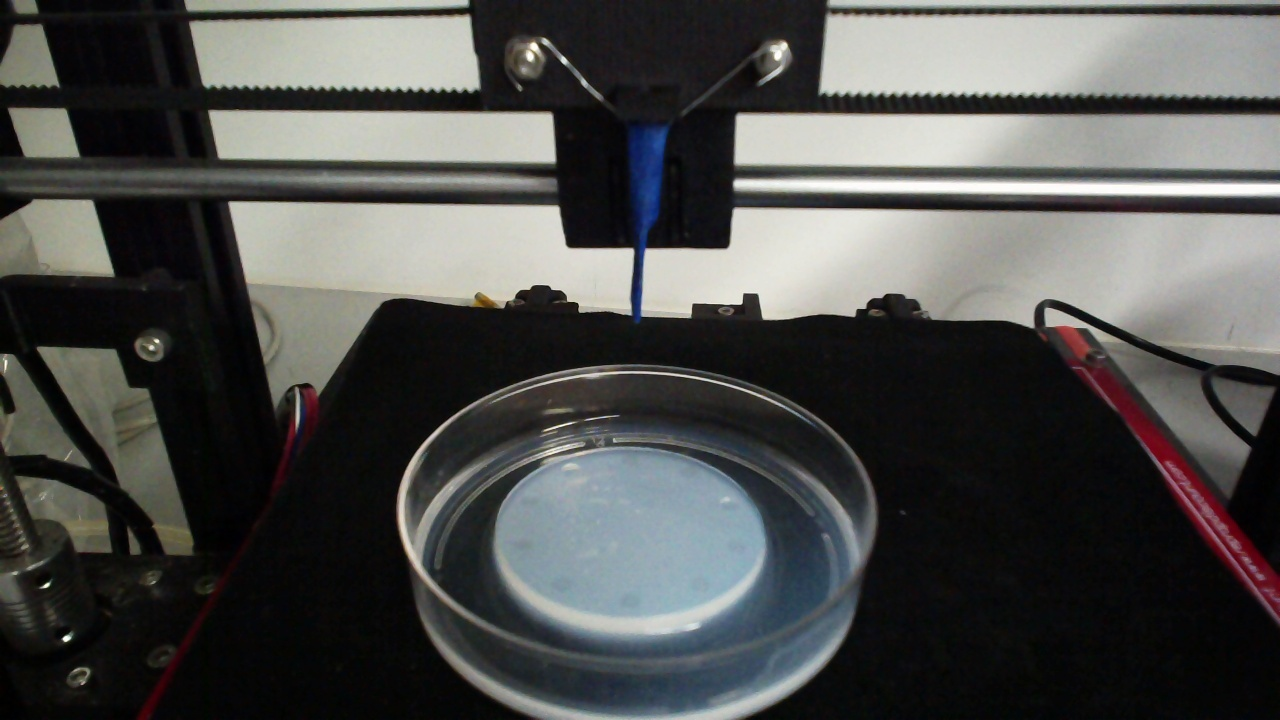groove: (549, 574, 573, 595), (726, 538, 748, 556), (509, 535, 533, 551), (618, 592, 642, 608), (717, 496, 741, 512), (517, 492, 540, 508), (678, 464, 700, 480), (560, 461, 581, 477), (689, 577, 710, 592), (620, 454, 642, 467)
needle: (630, 124, 665, 324)
